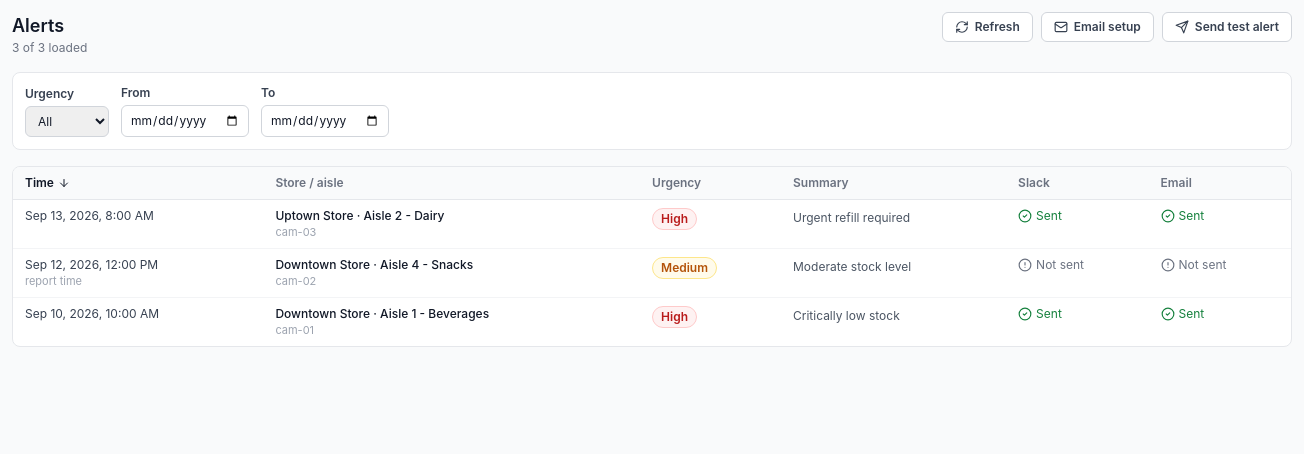
it: Alerts Page - Sorting & Filtering Logic › verifies and saves a pasted email key from the Email setup panel
Click the button "Email setup" at (1097, 27), box [1041, 12, 1154, 42]
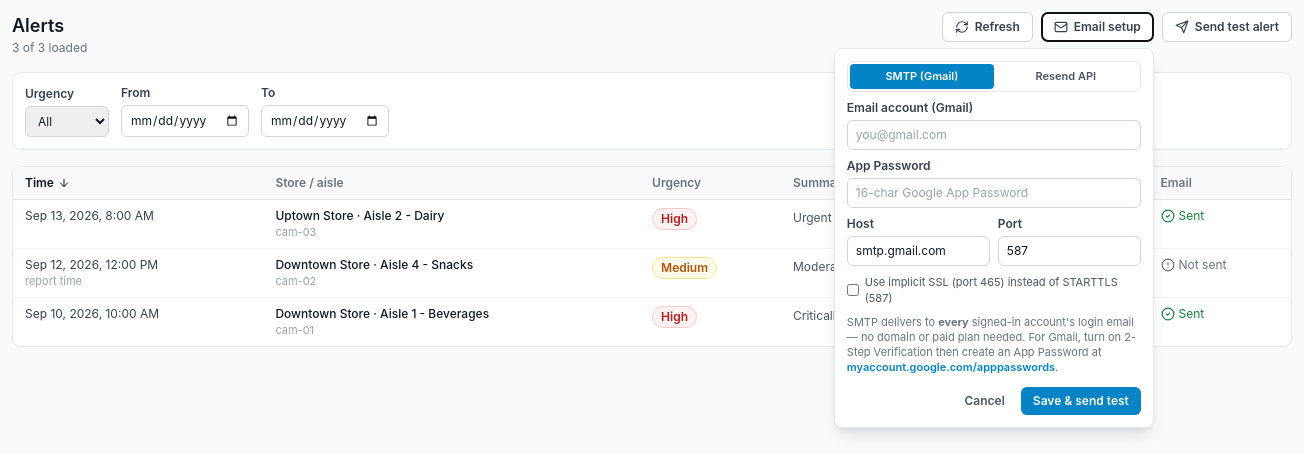
Click the button "Resend API" at (1066, 76), box [994, 64, 1138, 88]
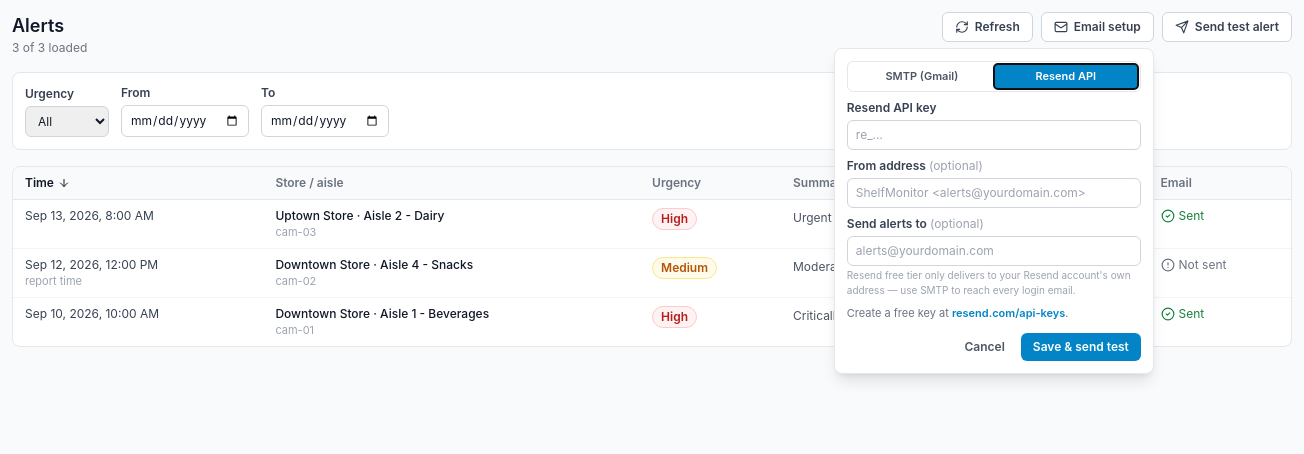
Type "re_validkey1234567890" into the password field with placeholder "re_…" at (994, 134), box [847, 120, 1141, 150]
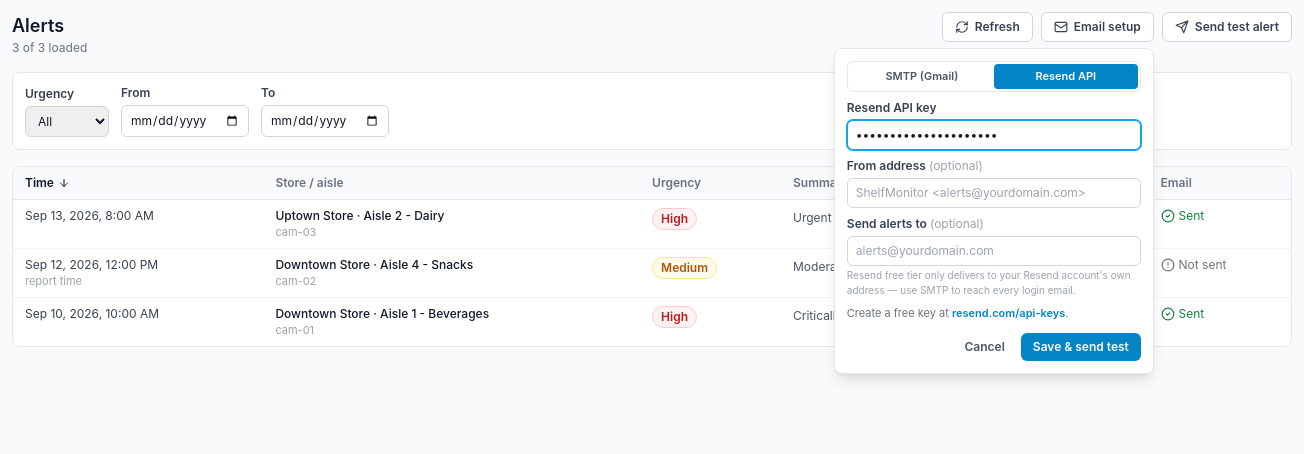
Click the button "Save & send test" at (1081, 347), box [1021, 333, 1141, 361]
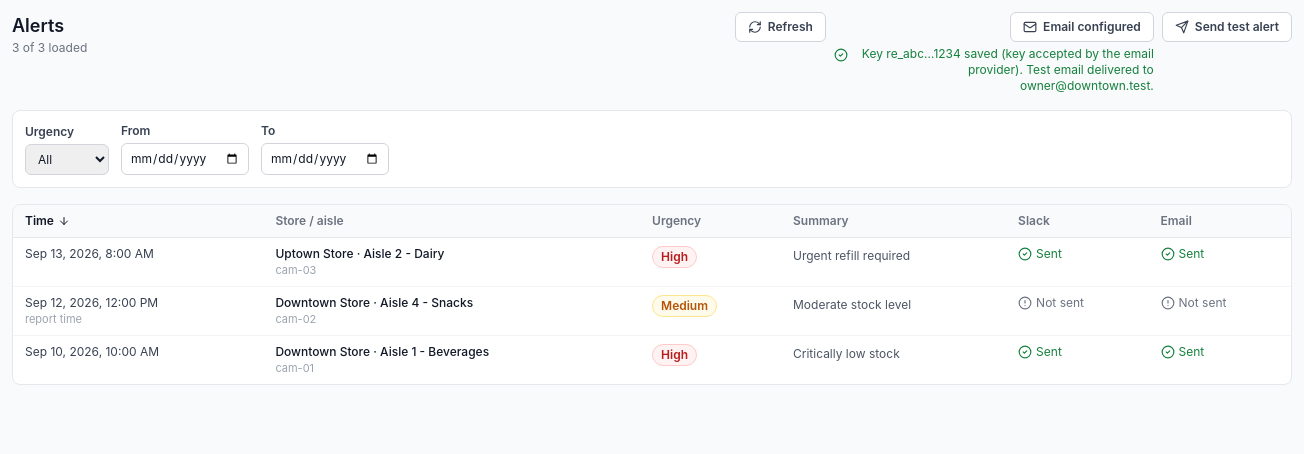
Expected: the text "Test email delivered to owner@downtown.test" is shown, [862, 46, 1154, 93]
